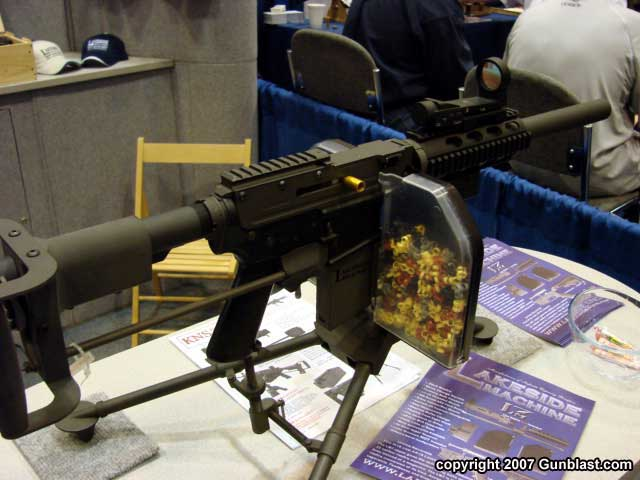rifle: (1, 94, 609, 438)
